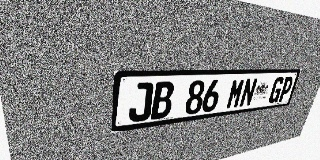6: (201, 79, 223, 113)
8: (184, 80, 207, 115)
B: (150, 81, 175, 120)
G: (267, 77, 285, 104)
J: (128, 82, 154, 123)
M: (225, 78, 246, 109)
N: (238, 78, 258, 108)
P: (277, 76, 295, 102)
